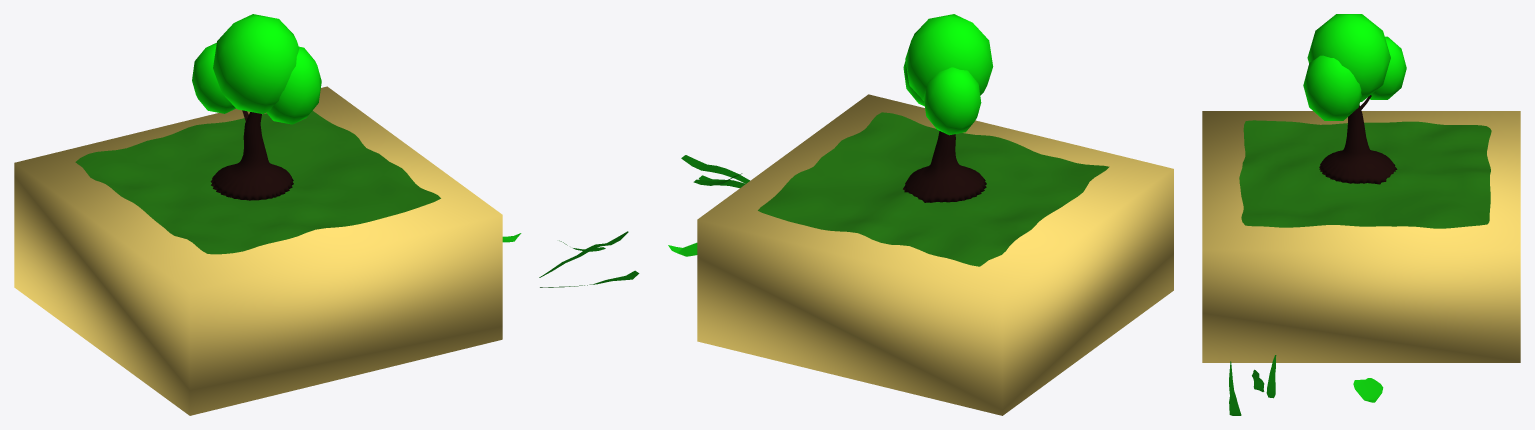
Rendered from floor.gltf.
3 views of the same model, side by side, from view 1: azimuth 30°, elevation 25°; view 2: azimuth 150°, elevation 25°; view 3: azimuth 270°, elevation 25° (orthographic). The views are drawn at different scales.
Visible parts, largest first — view 1: mesh_1, mesh_2, mesh_7, mesh_0, mesh_9, mesh_8; view 2: mesh_1, mesh_2, mesh_7, mesh_0, mesh_8, mesh_5; view 3: mesh_1, mesh_2, mesh_7, mesh_0, mesh_9, mesh_8, mesh_3, mesh_4.
Part boxes in pixels (x1=…): mesh_1: x1=14, y1=86, x2=502, y2=415; mesh_2: x1=75, y1=110, x2=440, y2=254; mesh_7: x1=213, y1=14, x2=299, y2=113; mesh_0: x1=210, y1=110, x2=293, y2=200; mesh_9: x1=266, y1=46, x2=321, y2=124; mesh_8: x1=192, y1=43, x2=235, y2=113; mesh_1: x1=697, y1=94, x2=1173, y2=415; mesh_2: x1=758, y1=112, x2=1109, y2=266; mesh_7: x1=905, y1=14, x2=993, y2=100; mesh_0: x1=903, y1=131, x2=986, y2=202; mesh_8: x1=923, y1=67, x2=981, y2=135; mesh_5: x1=681, y1=155, x2=749, y2=183; mesh_1: x1=1202, y1=111, x2=1520, y2=362; mesh_2: x1=1239, y1=120, x2=1491, y2=228; mesh_7: x1=1307, y1=14, x2=1390, y2=101; mesh_0: x1=1319, y1=95, x2=1397, y2=184; mesh_9: x1=1303, y1=55, x2=1361, y2=120; mesh_8: x1=1370, y1=36, x2=1406, y2=99; mesh_3: x1=1353, y1=378, x2=1383, y2=402; mesh_4: x1=1229, y1=361, x2=1241, y2=415.
Bounding box in the file's own units: 119 × 73.48 × 77.03.
